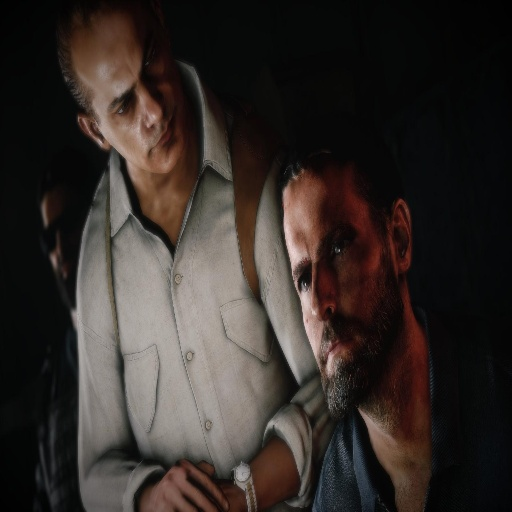hand: (135, 449, 230, 507), (195, 479, 243, 511)
